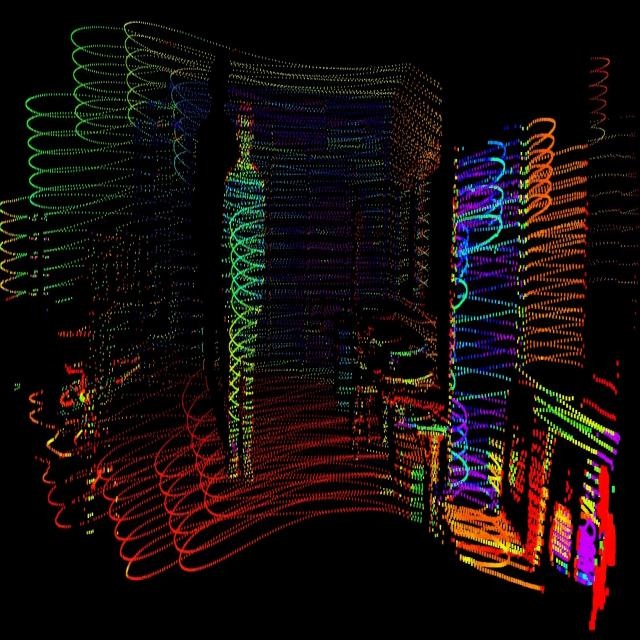human: (218, 93, 273, 487)
